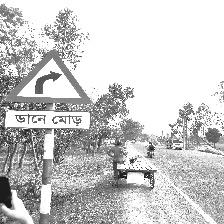Right-turn: (3, 51, 94, 131)
